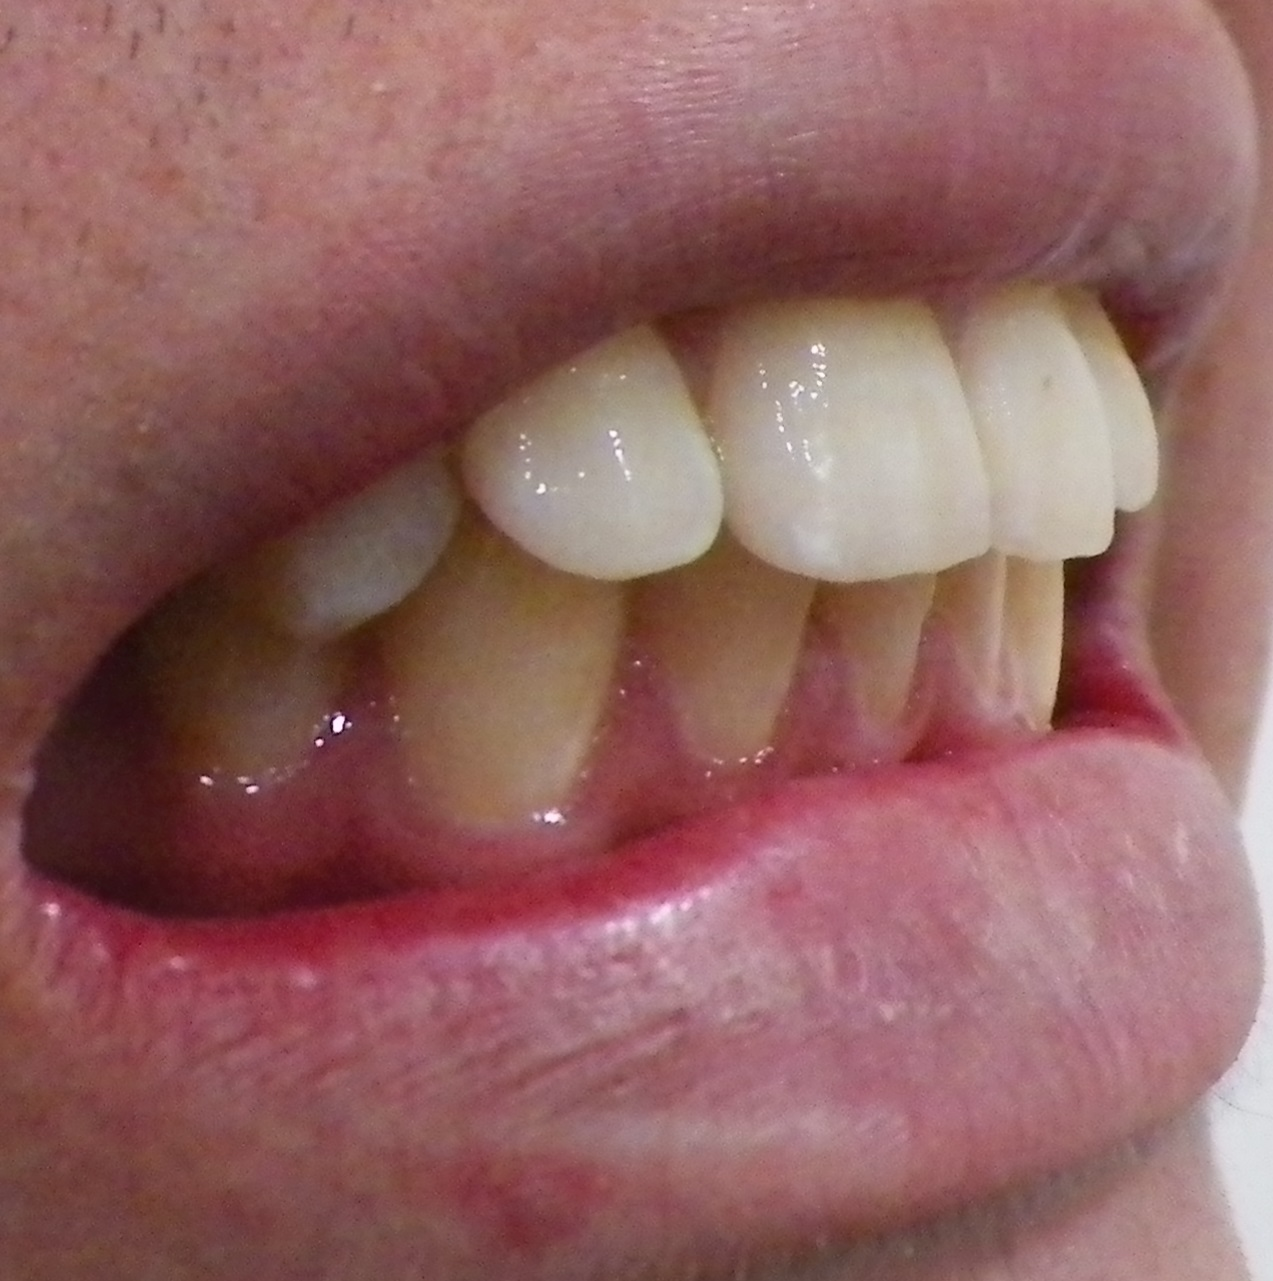boca: (114, 303, 1181, 818)
